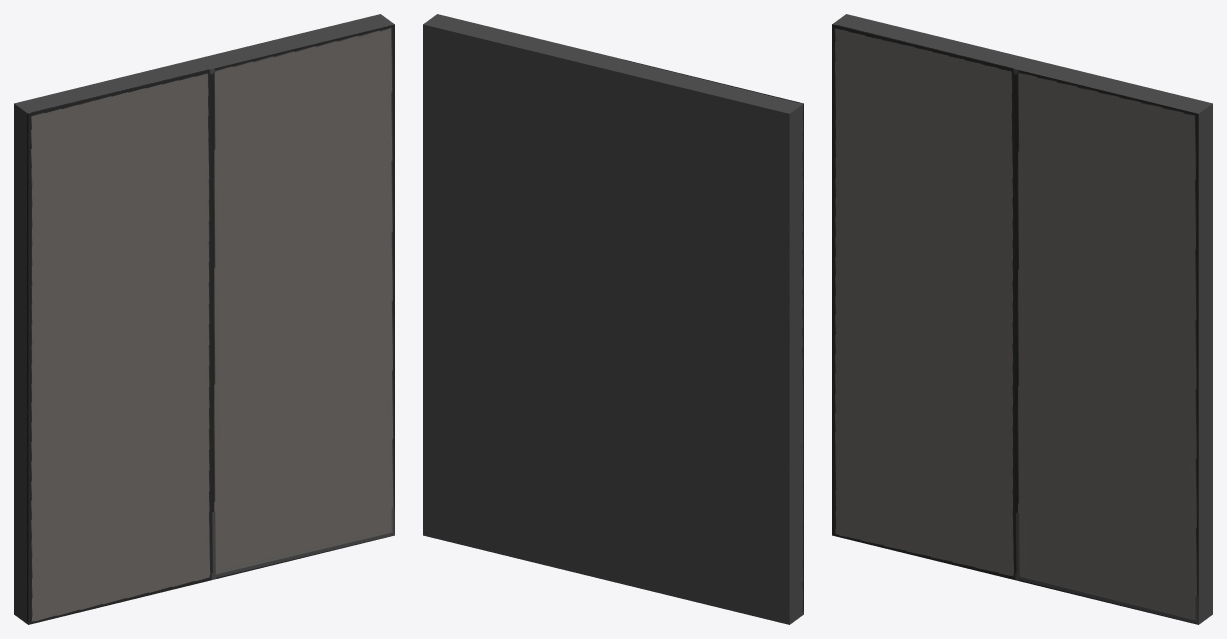
Rendered from Elev_door.fbx.
3 views of the same model, side by side, from view 1: azimuth 30°, elevation 25°; view 2: azimuth 150°, elevation 25°; view 3: azimuth 330°, elevation 25° (orthographic).
Visible parts, largest first — view 1: polySurface2, polySurface1; view 2: polySurface2, polySurface1; view 3: polySurface1, polySurface2.
Part boxes in pixels (x1,y1,x2,y2): polySurface2: [14, 59, 211, 624]; polySurface1: [197, 14, 394, 579]; polySurface2: [606, 59, 803, 624]; polySurface1: [423, 14, 620, 579]; polySurface1: [1015, 59, 1212, 624]; polySurface2: [832, 14, 1029, 579].
Size of the model in its own units: 61.21 by 81.52 by 4.13.
Materials: 1 (1 with a texture image).
